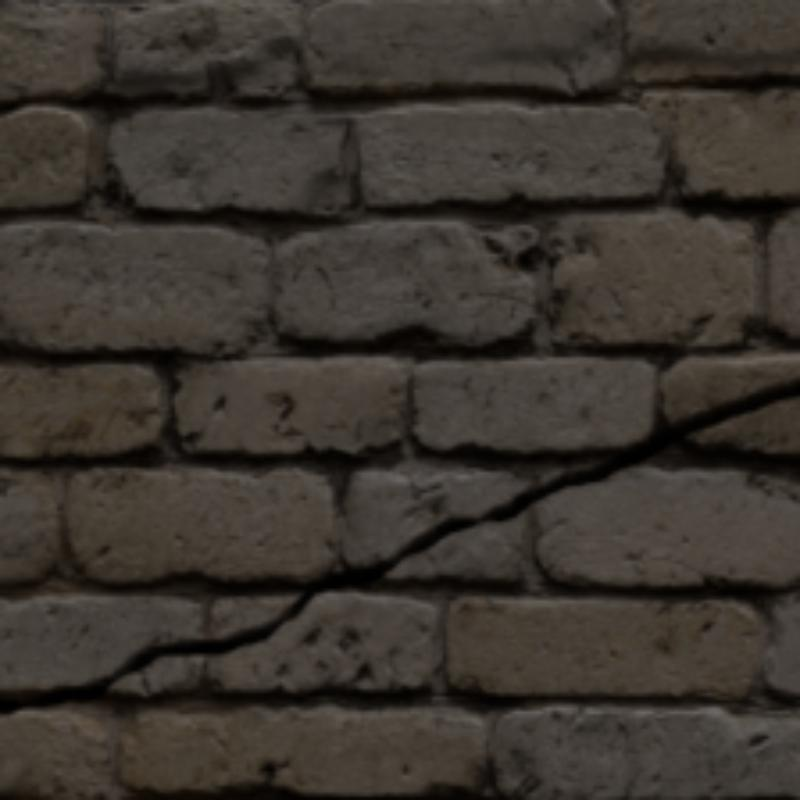pothole: (0, 379, 796, 711)
